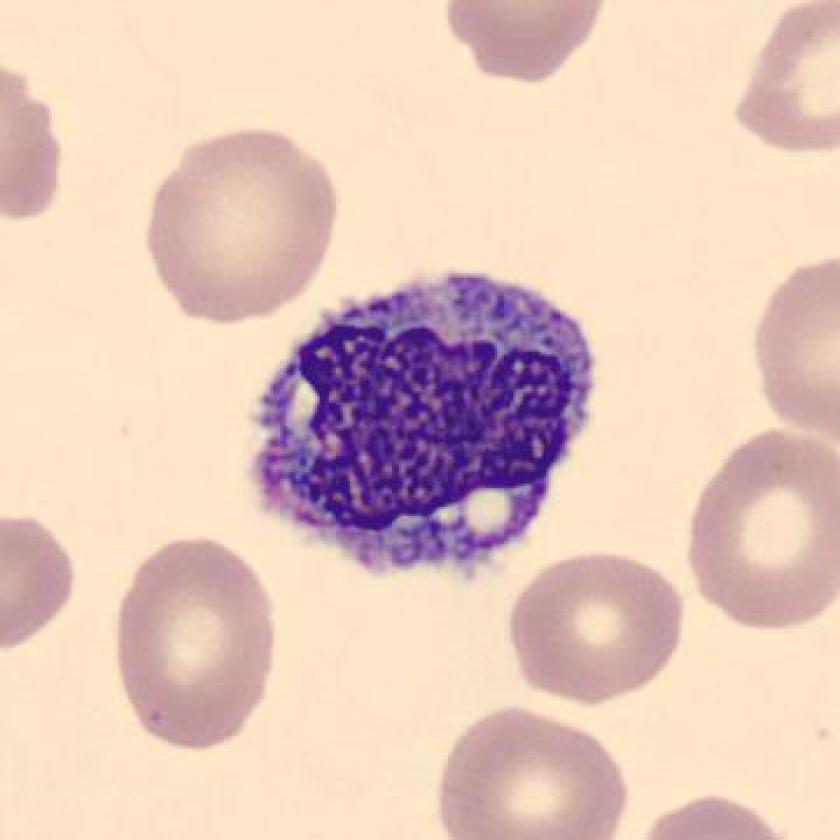monocyte: (232, 251, 617, 591)
